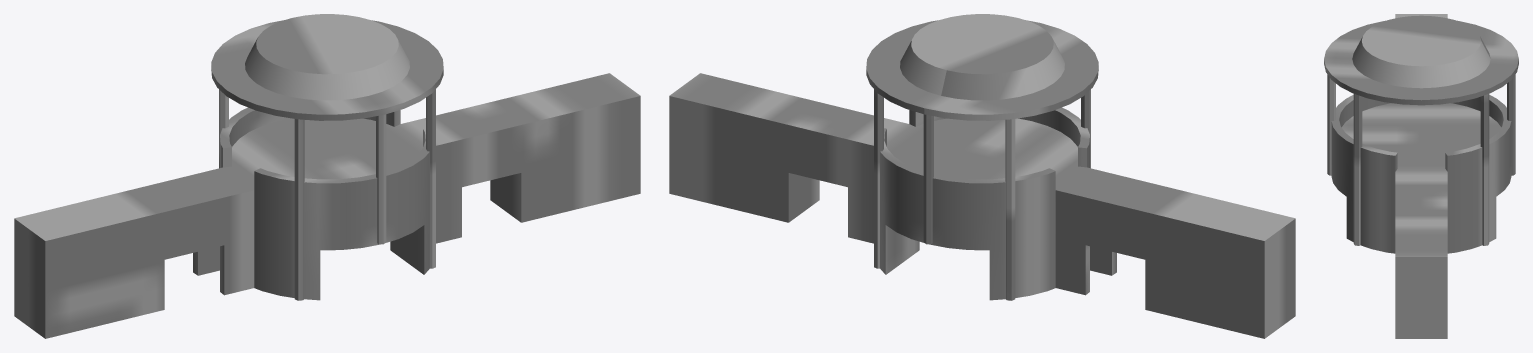
The model's file is prop_Bridge.fbx.
3 views of the same model, side by side, from view 1: azimuth 30°, elevation 25°; view 2: azimuth 150°, elevation 25°; view 3: azimuth 270°, elevation 25° (orthographic). The views are drawn at different scales.
Parts seen in each view (by area): view 1: prop_Bridge; view 2: prop_Bridge; view 3: prop_Bridge.
Part boxes in pixels (left/top/right/bottom): prop_Bridge: left=14, top=14, right=640, bottom=338; prop_Bridge: left=669, top=14, right=1295, bottom=338; prop_Bridge: left=1324, top=14, right=1518, bottom=338.
Size of the model in its own units: 3842 by 1300 by 1302.
